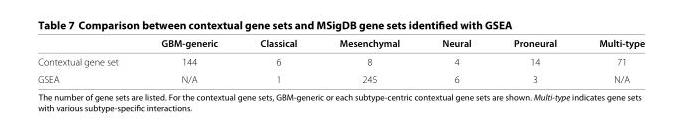table: (37, 37, 644, 84)
table column: (317, 37, 420, 84), (37, 37, 139, 84), (139, 37, 238, 84), (491, 37, 577, 84), (238, 37, 317, 84), (420, 37, 491, 84), (577, 37, 644, 84)
table column header: (37, 37, 644, 52)
table row: (37, 52, 644, 70), (37, 37, 644, 52), (37, 70, 644, 84)
